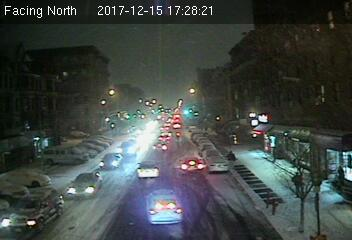car: (3, 187, 63, 231), (67, 173, 102, 197), (135, 160, 161, 180), (177, 156, 204, 174), (100, 154, 121, 169), (207, 157, 228, 171), (151, 142, 169, 151)
police: (144, 188, 185, 227)
